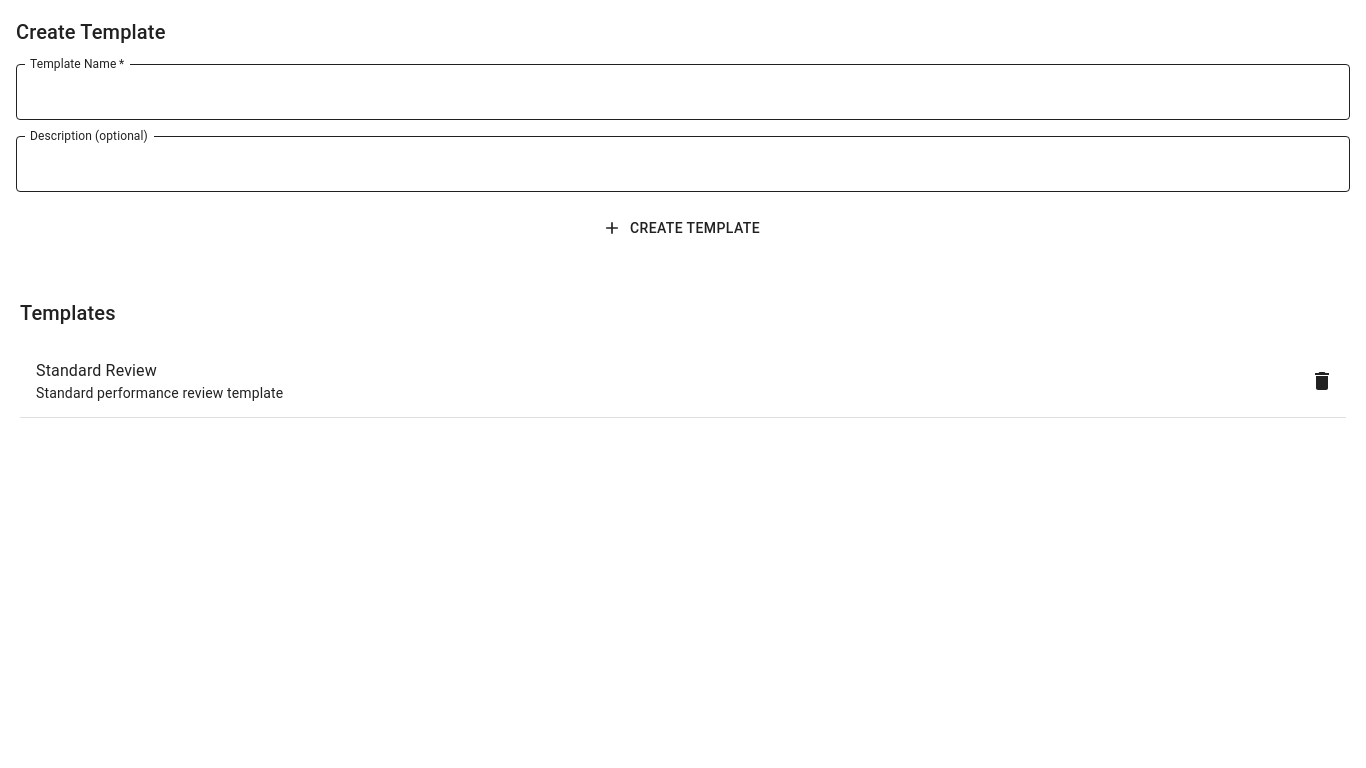
Scenario: ReviewTemplatesClient › opens confirm dialog when delete button is clicked
Click the button with test id "DeleteIcon". click: click(1322, 381)
box: [1302, 361, 1342, 401]
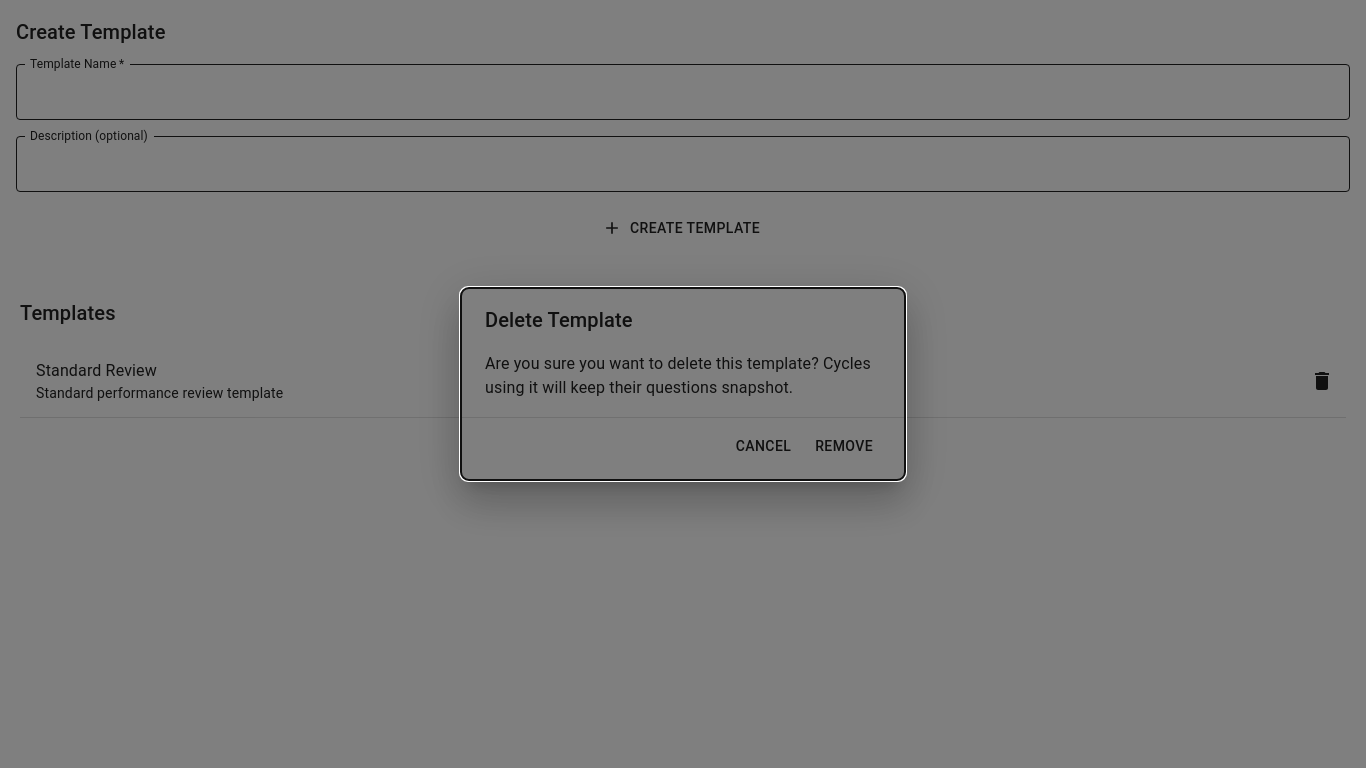
Expected: the text "Are you sure you want to delete this template? Cycles using it will keep their questions snapshot." is shown, [485, 354, 871, 397]
